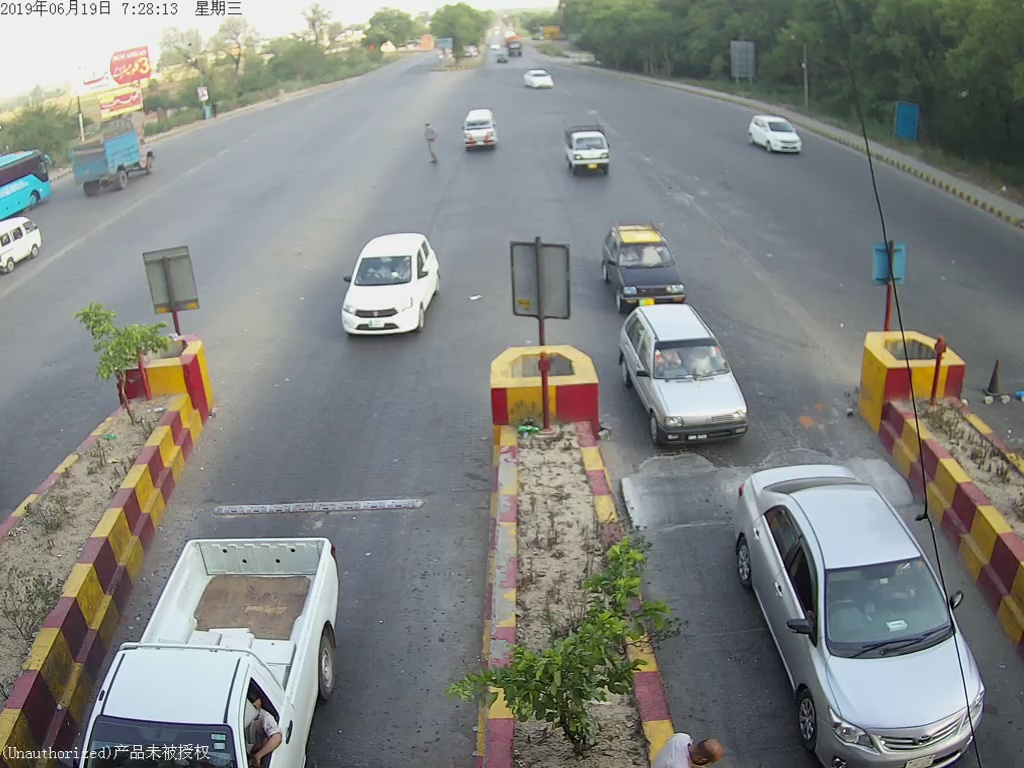Cat-1: (731, 469, 1009, 762), (619, 309, 760, 445), (333, 233, 441, 336), (595, 216, 698, 305), (560, 122, 621, 181), (459, 95, 502, 153)
